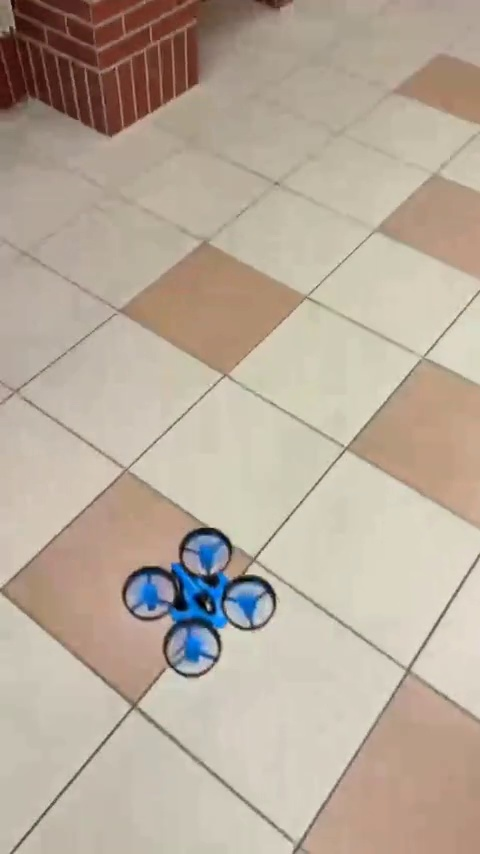drone: (119, 532, 280, 677)
